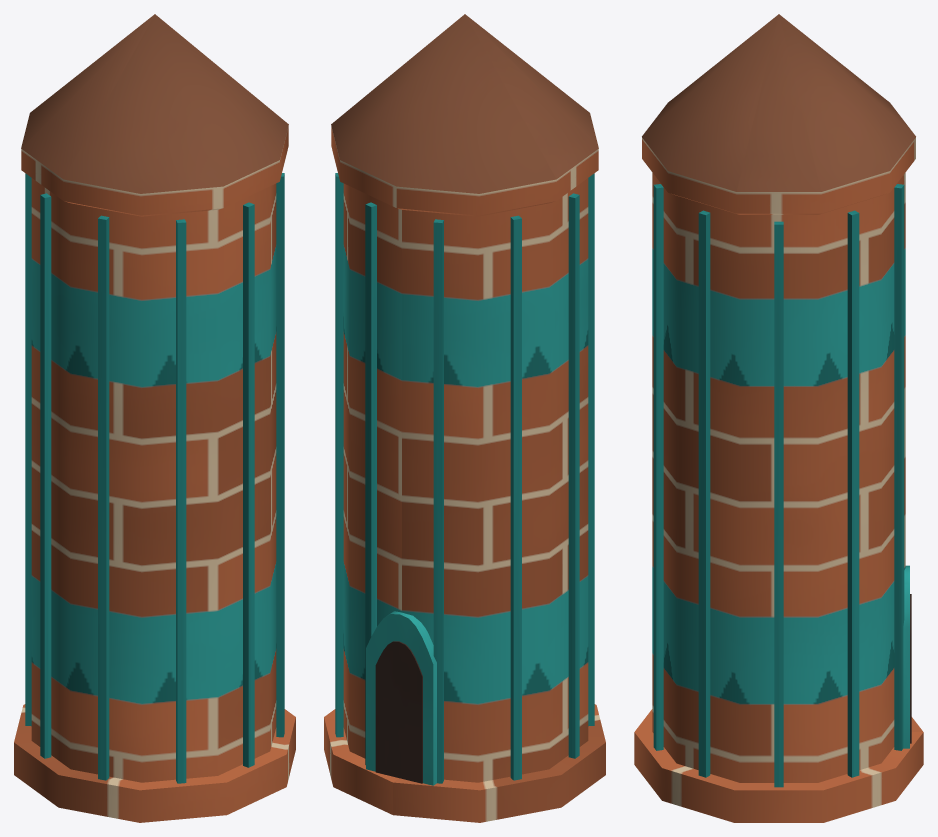
File: env_momine_khatun.glb
3 renders of one model, left to right at view 1: azimuth 30°, elevation 25°; view 2: azimuth 150°, elevation 25°; view 3: azimuth 270°, elevation 25°, orthographic.
Visible parts, largest first — view 1: env_momine_khatun; view 2: env_momine_khatun; view 3: env_momine_khatun.
Part boxes in pixels (left/top/right/bottom): env_momine_khatun: left=14, top=14, right=295, bottom=822; env_momine_khatun: left=324, top=14, right=605, bottom=822; env_momine_khatun: left=634, top=14, right=923, bottom=822.
Size of the model in its own units: 9.13 by 27.5 by 9.6.
Materials: 1 (1 with a texture image).
